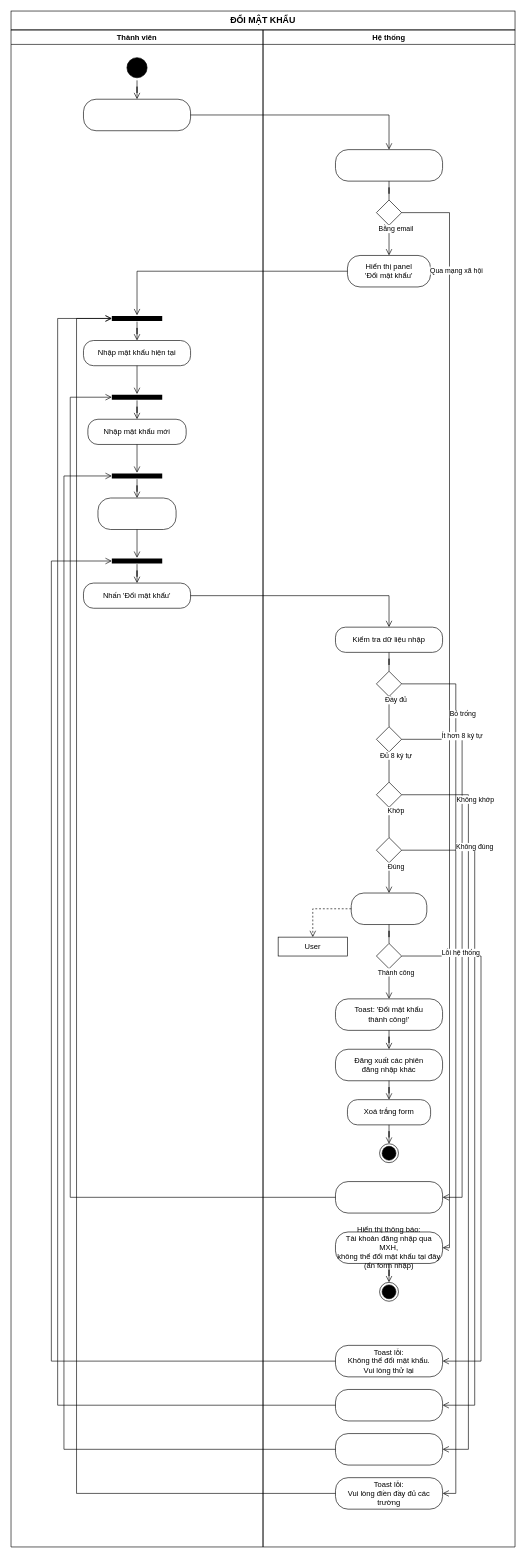
Image size: 526x1558. Some labels were removed from this diagram. Each missing label, with the centre of its shape:
Gửi yêu cầu đổi mật khẩu: the point at 389,908
Kiểm tra loại tài khoản đăng nhập: the point at 389,165
Nhấn tab 'Cài đặt' trên màn hình Tài khoản: the point at 137,115
Nhập xác nhận mật khẩu mới: the point at 136,513
Toast lỗi: Mật khẩu hiện tại không đúng: the point at 389,1405
Toast lỗi: Mật khẩu mới không khớp: the point at 389,1449
Toast lỗi: Mật khẩu mới phải có ít nhất 8 ký tự: the point at 389,1197
